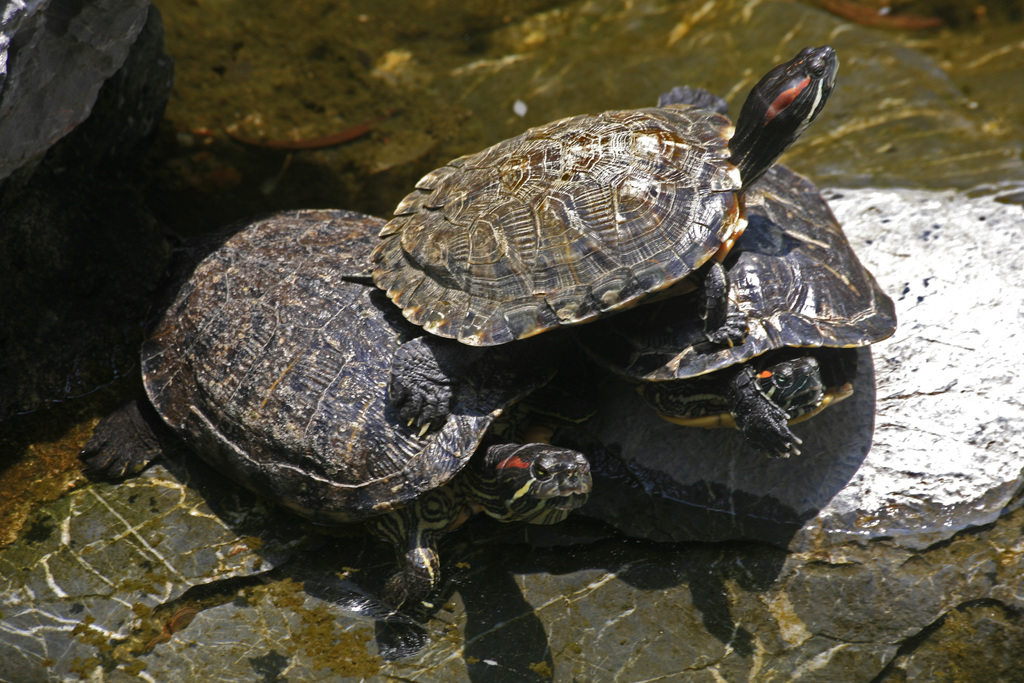Sea turtles: (71, 206, 596, 659), (347, 35, 840, 443), (587, 83, 892, 464)
